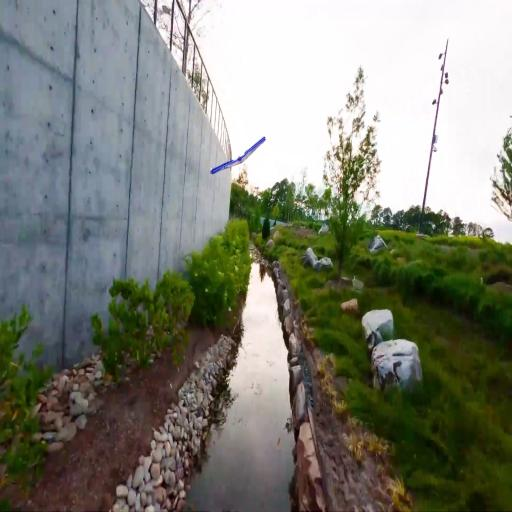uav: (208, 130, 268, 179)
